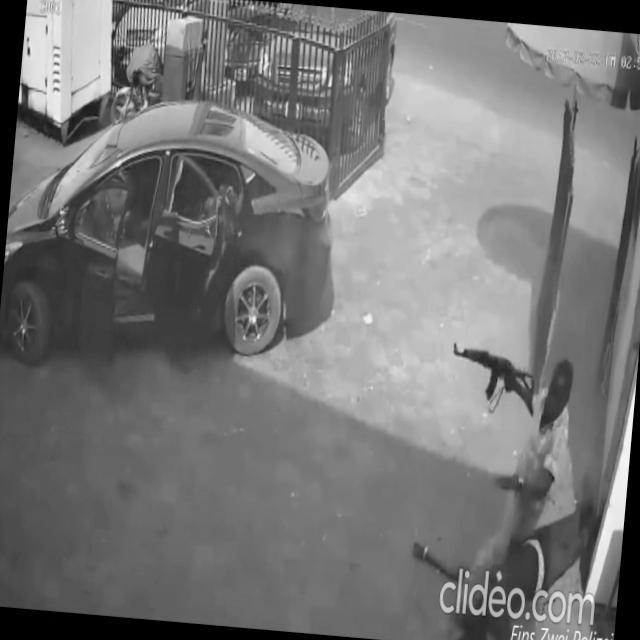gun: (444, 337, 539, 416), (210, 187, 246, 240)
person with a gun: (426, 336, 578, 626), (178, 159, 248, 320)
